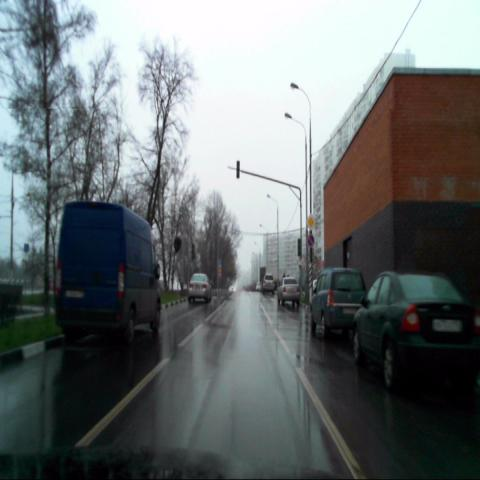2_1: (306, 214, 316, 232)
3_28: (307, 233, 315, 248)
